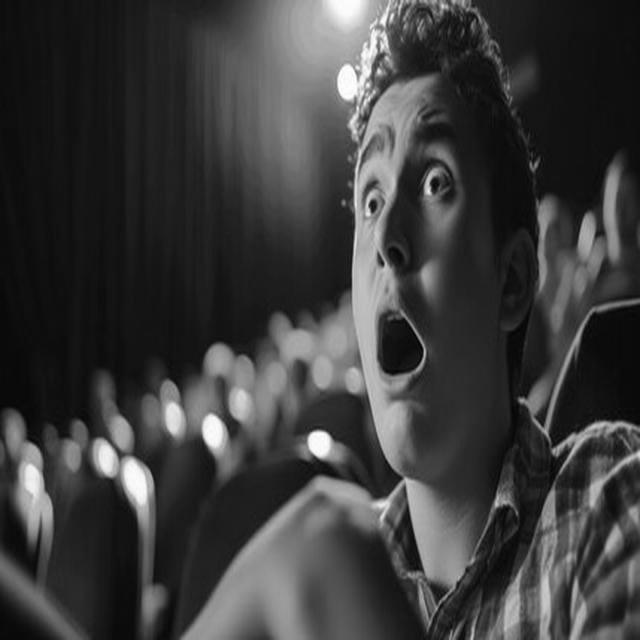Fear: (352, 75, 499, 480)
